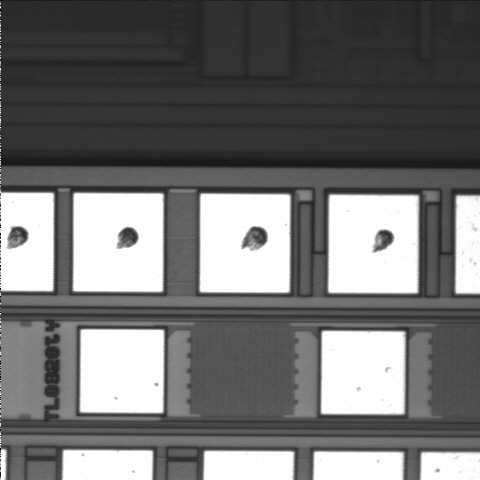pad: (73, 193, 163, 292), (200, 194, 290, 293), (329, 195, 418, 293), (80, 329, 164, 413), (321, 331, 405, 414)
